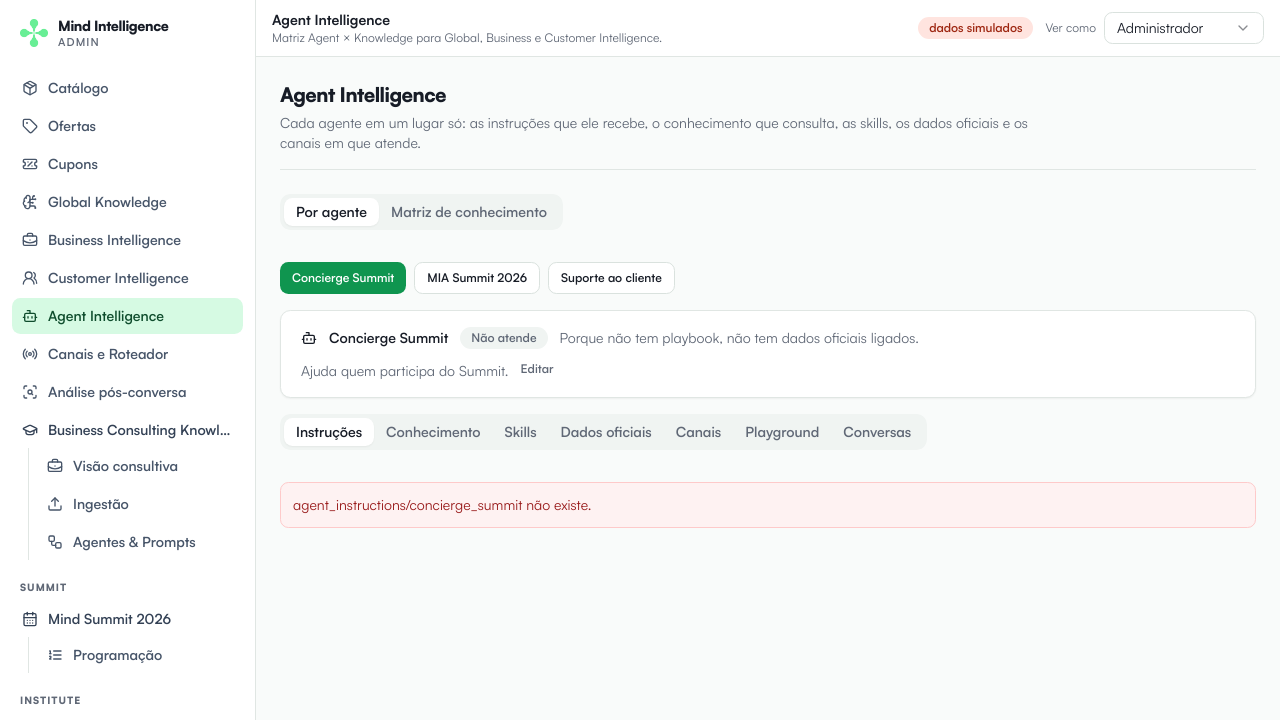
Test: o que cada agente faz › aparece na ficha do agente e o administrador descreve
This screenshot has width=1280, height=720.
Click the button "MIA Summit 2026" at {"x": 477, "y": 278}, box [414, 262, 540, 294]
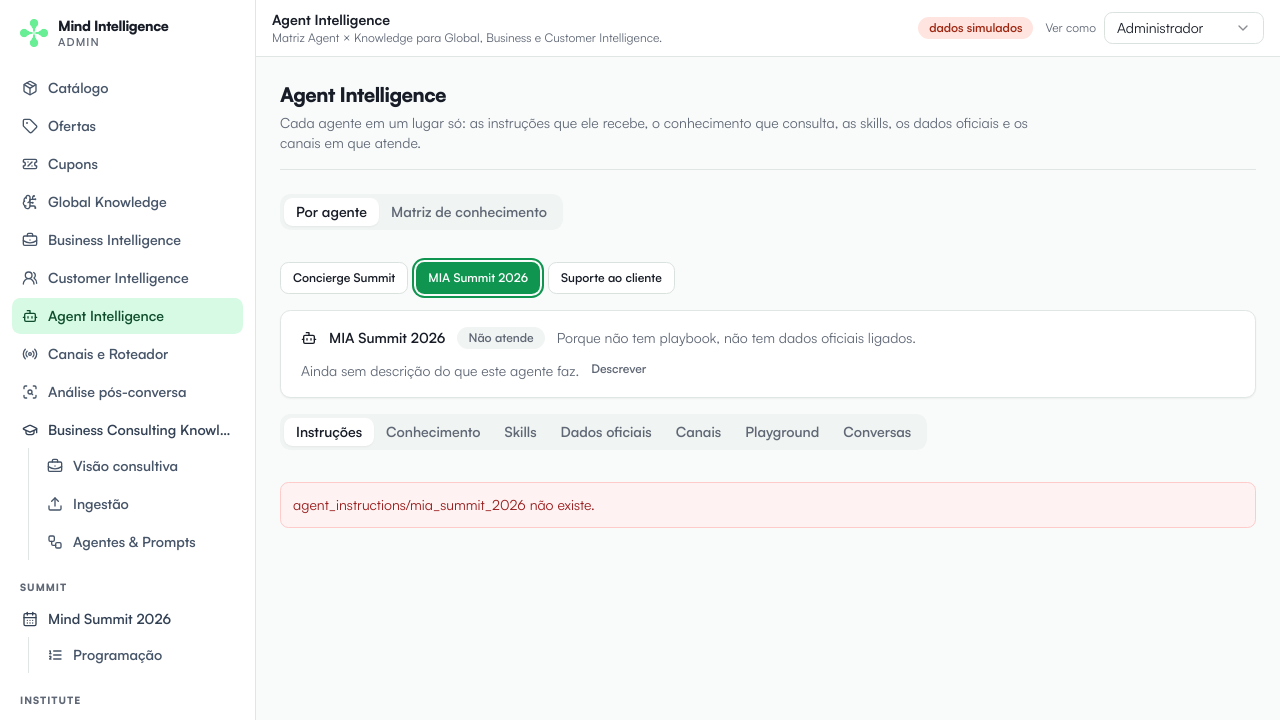
Expected: the text "Ainda sem descrição do que este agente faz." is shown, [301, 361, 579, 381]
Click the button "Descrever" at {"x": 619, "y": 369}, box [587, 361, 650, 377]
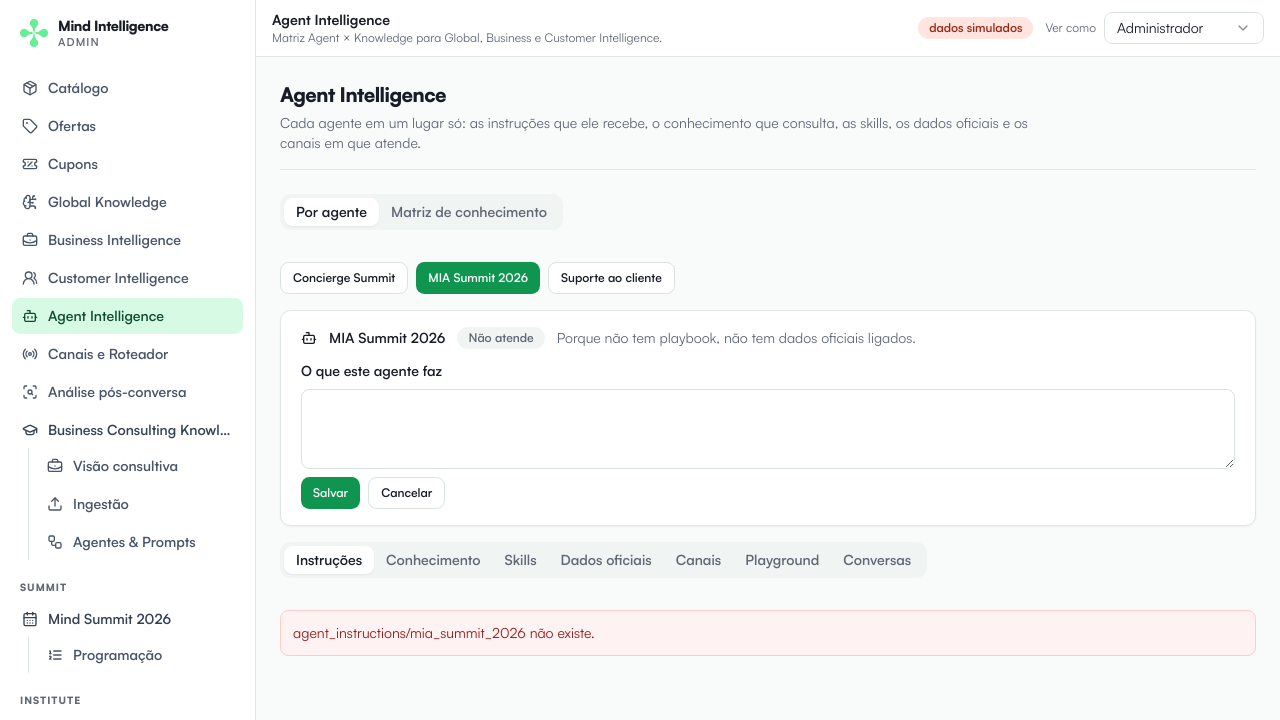
Type "Orienta a partir das palestras." into the text box labelled "O que este agente faz" at {"x": 768, "y": 429}, box [301, 389, 1235, 469]
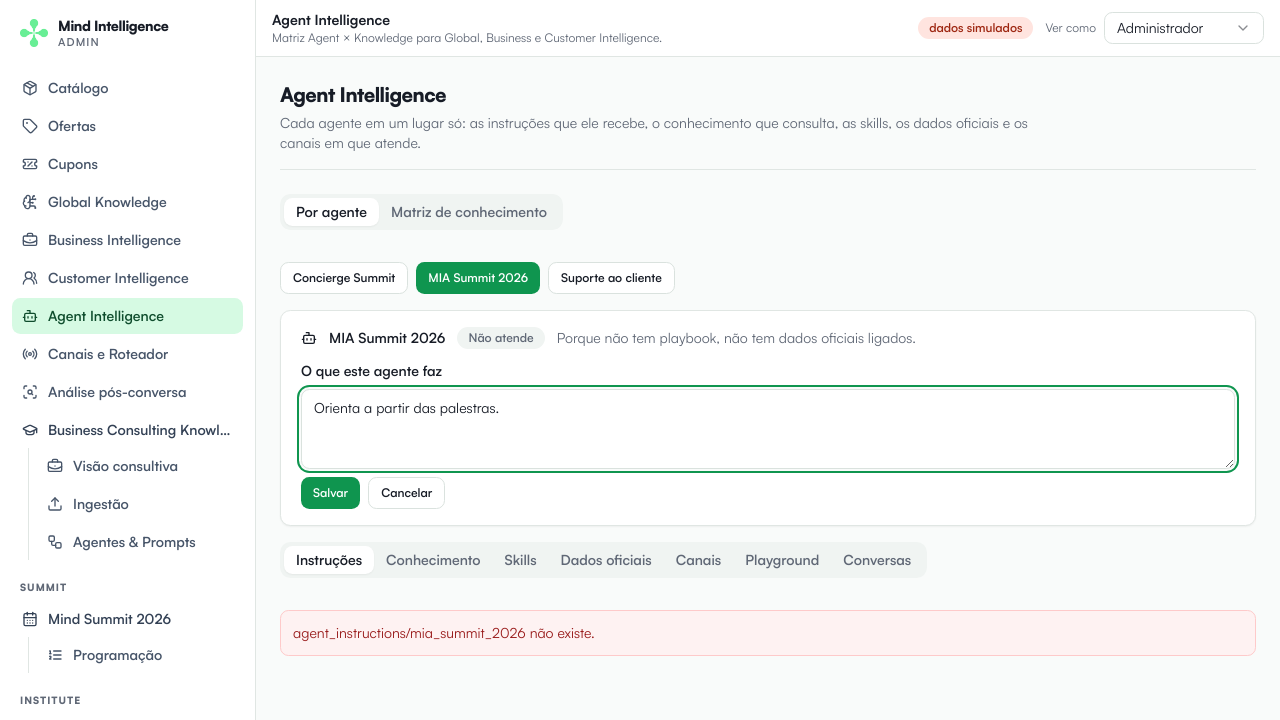
Click the button "Salvar" at {"x": 331, "y": 493}, box [301, 477, 360, 509]
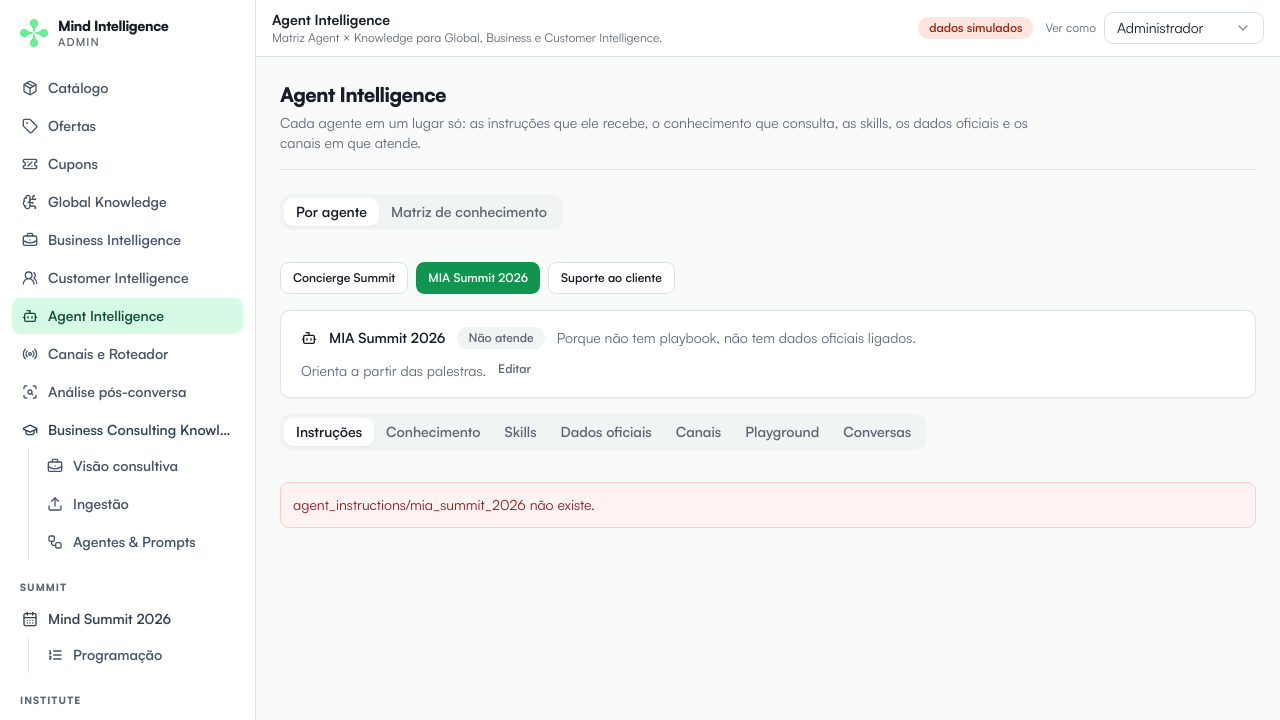
Expected: the text "Orienta a partir das palestras." is shown, [301, 361, 486, 381]
